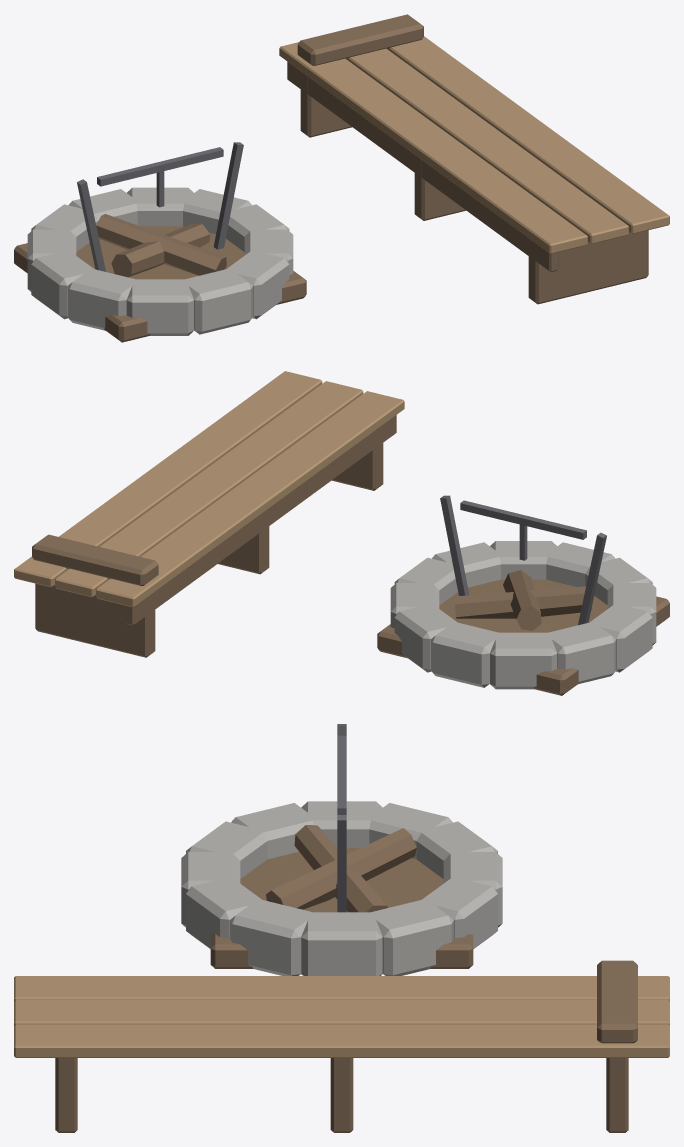
The model's file is stage_4_hearth.glb.
3 views of the same model, one above another, from view 1: azimuth 30°, elevation 25°; view 2: azimuth 150°, elevation 25°; view 3: azimuth 270°, elevation 25° (orthographic). The views are drawn at different scales.
Parts seen in each view (by area): view 1: stage_4_hearth; view 2: stage_4_hearth; view 3: stage_4_hearth.
Part boxes in pixels (x1,y1,x2,y2): stage_4_hearth: (14,14,669,342); stage_4_hearth: (14,371,669,695); stage_4_hearth: (14,724,669,1132).
Bounding box in the file's own units: 3.02 × 0.7074 × 2.9.
